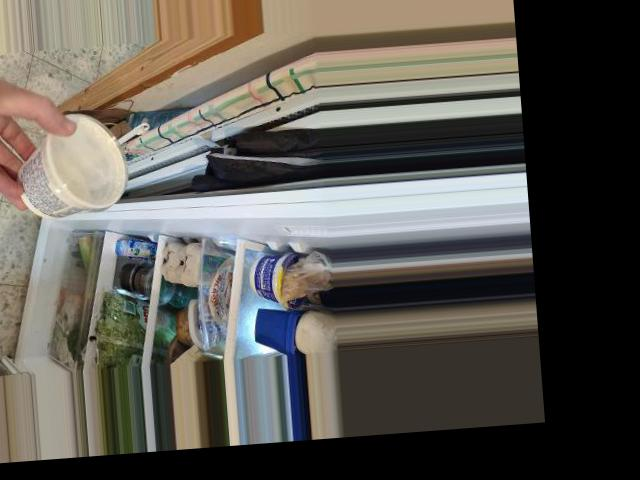cotage: (4, 99, 126, 220)
